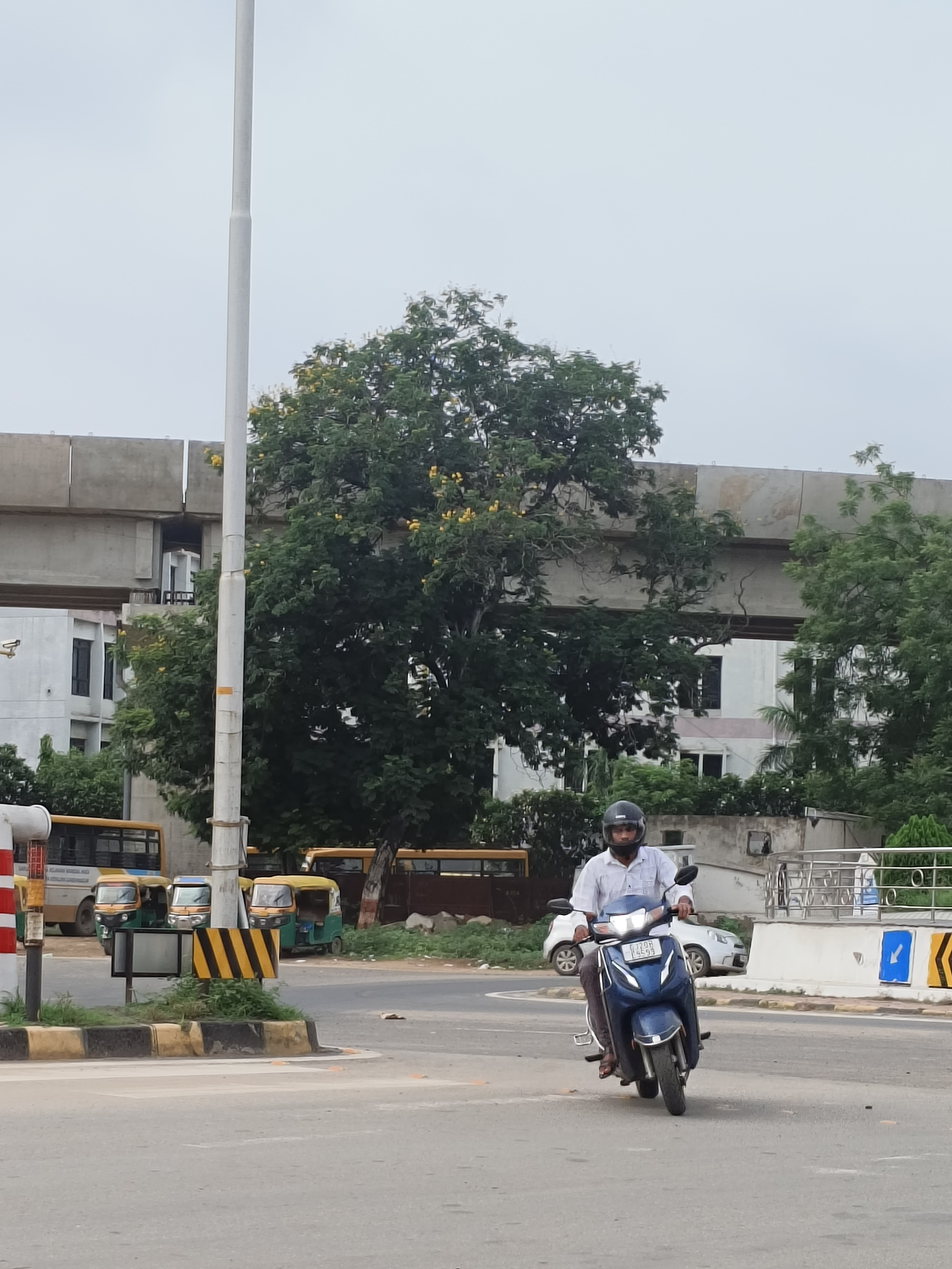BikeWithRider: (540, 791, 721, 1122)
Helmet: (594, 793, 654, 863)
